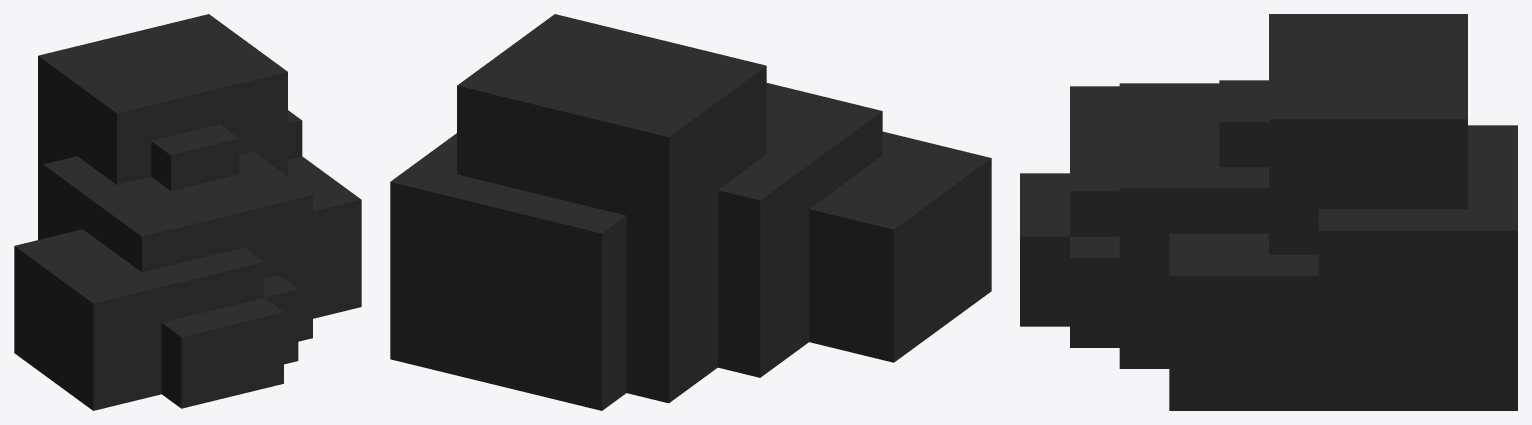
Rendered from rock_1.obj.
3 views of the same model, side by side, from view 1: azimuth 30°, elevation 25°; view 2: azimuth 150°, elevation 25°; view 3: azimuth 270°, elevation 25° (orthographic). The views are drawn at different scales.
Size of the model in its own units: 0.9 by 0.6 by 1.
1 material, 1 textured.
